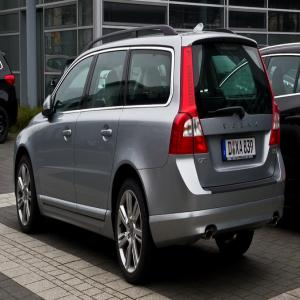Vehicle-registration-plate: (225, 132, 250, 168)
